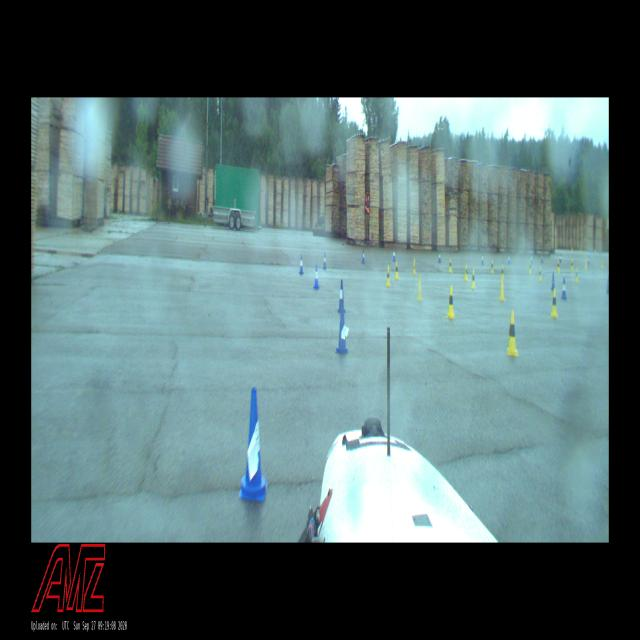blue_cone: (239, 388, 267, 500), (336, 314, 349, 353), (338, 280, 346, 312), (313, 264, 319, 288), (561, 278, 567, 299), (550, 271, 556, 290), (299, 255, 304, 274), (361, 248, 365, 263), (606, 275, 609, 293), (323, 253, 326, 269), (507, 252, 511, 264), (540, 252, 544, 263), (481, 253, 484, 264), (559, 253, 562, 263), (438, 252, 441, 261), (393, 248, 395, 261), (530, 254, 532, 264)
yellow_cone: (506, 310, 518, 356), (446, 286, 455, 318), (551, 288, 558, 316), (500, 275, 505, 300), (417, 277, 422, 300), (385, 266, 390, 285), (471, 269, 476, 288), (464, 264, 468, 281), (395, 262, 399, 279), (500, 264, 504, 280), (538, 266, 542, 281), (412, 260, 416, 274), (528, 261, 532, 275), (490, 260, 494, 273), (449, 258, 452, 272), (575, 268, 578, 282), (557, 260, 560, 272), (584, 260, 587, 269), (571, 260, 573, 270)
